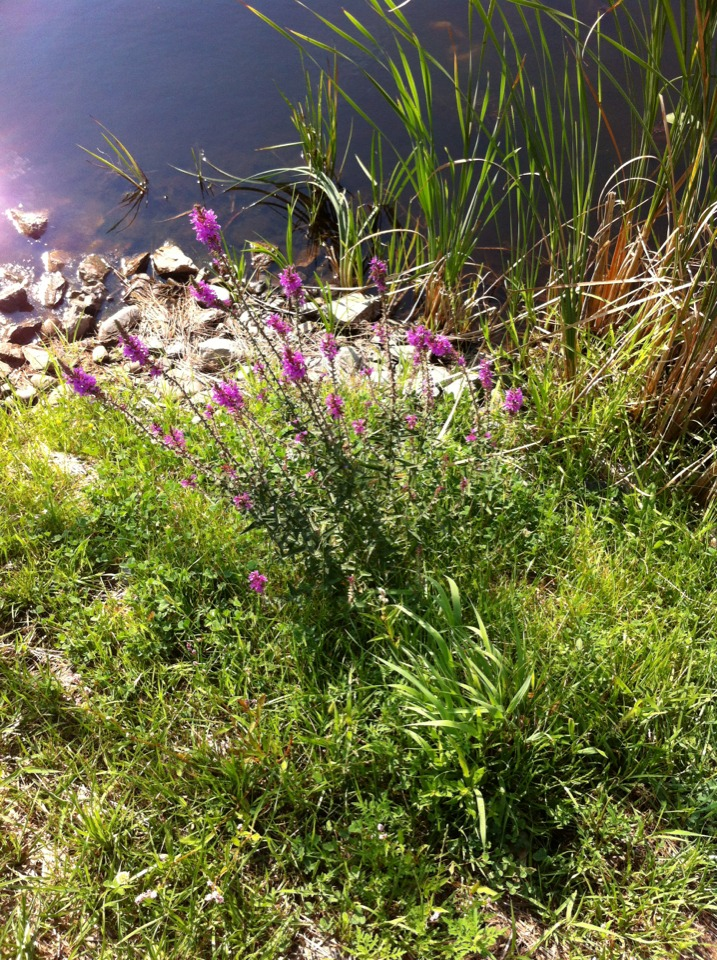purple loosestrife: (60, 201, 531, 599)
